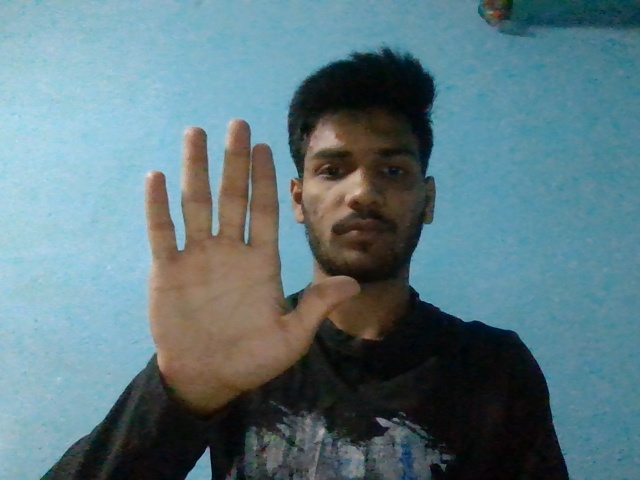Hello: (143, 117, 361, 390)
